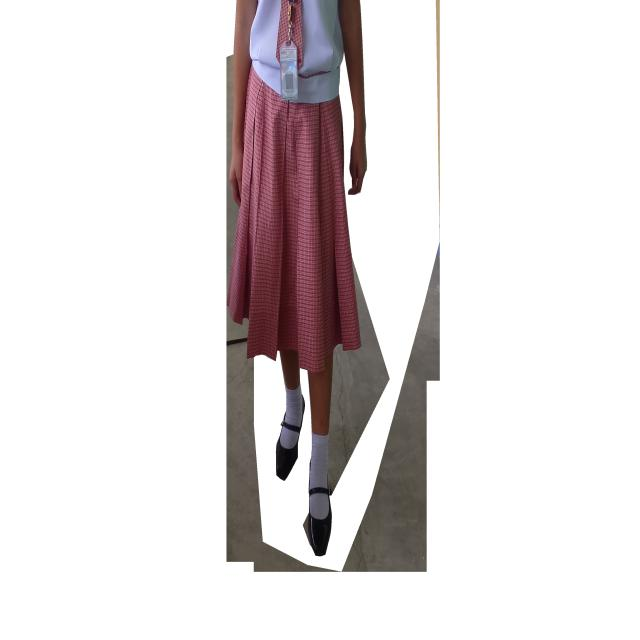shoes: (308, 476, 332, 556), (276, 412, 302, 480)
skirt: (227, 70, 360, 371)
